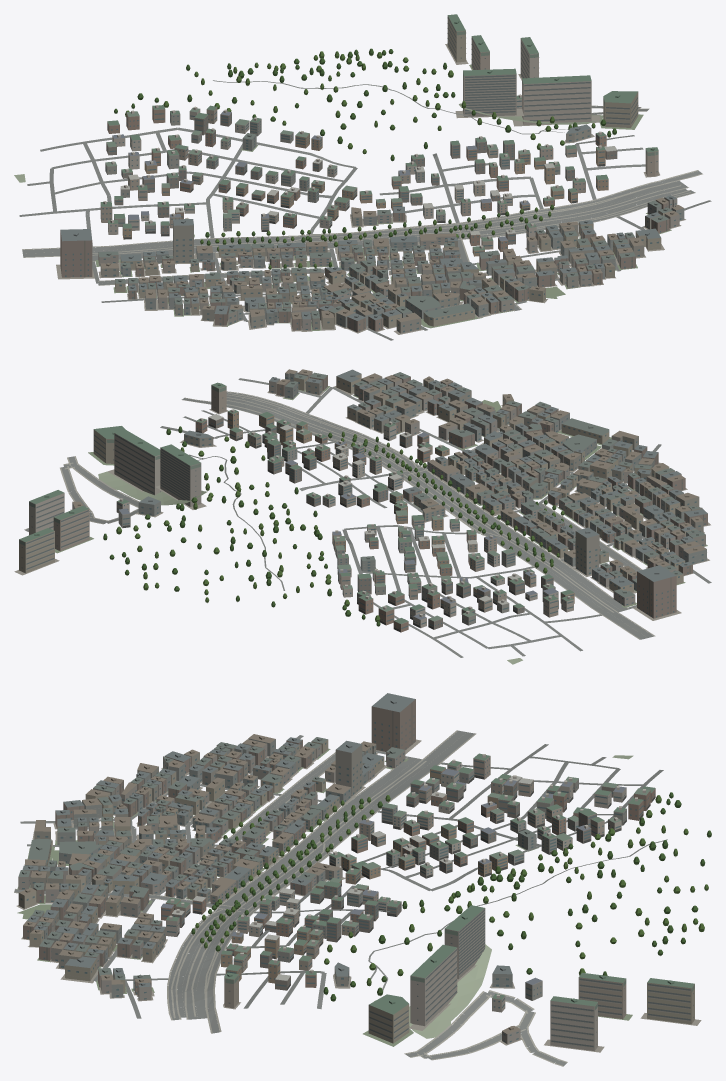
3 views of the same model, one above another, from view 1: azimuth 30°, elevation 25°; view 2: azimuth 150°, elevation 25°; view 3: azimuth 270°, elevation 25° (orthographic). The views are drawn at different scales.
Visible parts, largest first — view 1: context-osm-buildings, context-villa-infill, context-osm-roads, context-building-plinths, context-osm-sidewalks; view 2: context-osm-buildings, context-villa-infill, context-osm-roads, context-osm-sidewalks, context-building-plinths; view 3: context-osm-buildings, context-villa-infill, context-osm-roads, context-building-plinths, context-osm-sidewalks.
Boxes of the visible parts, x1=… form: context-osm-buildings: x1=60, y1=14, x2=684, y2=333; context-villa-infill: x1=100, y1=48, x2=617, y2=269; context-osm-roads: x1=19, y1=80, x2=711, y2=340; context-building-plinths: x1=14, y1=44, x2=685, y2=334; context-osm-sidewalks: x1=22, y1=105, x2=702, y2=311; context-osm-buildings: x1=19, y1=369, x2=707, y2=618; context-villa-infill: x1=103, y1=409, x2=574, y2=632; context-osm-roads: x1=25, y1=378, x2=711, y2=657; context-osm-sidewalks: x1=24, y1=391, x2=655, y2=639; context-building-plinths: x1=14, y1=386, x2=710, y2=664; context-osm-buildings: x1=18, y1=693, x2=694, y2=1050; context-villa-infill: x1=161, y1=753, x2=711, y2=1012; context-osm-roads: x1=14, y1=730, x2=667, y2=1065; context-building-plinths: x1=16, y1=739, x2=701, y2=1052; context-osm-sidewalks: x1=14, y1=730, x2=567, y2=1066.
Size of the model in its own units: 696 by 79.74 by 594.
